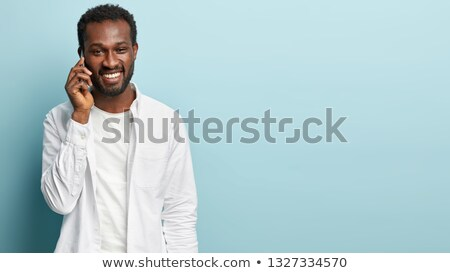phone: (74, 44, 97, 94)
talk: (65, 41, 130, 106)
